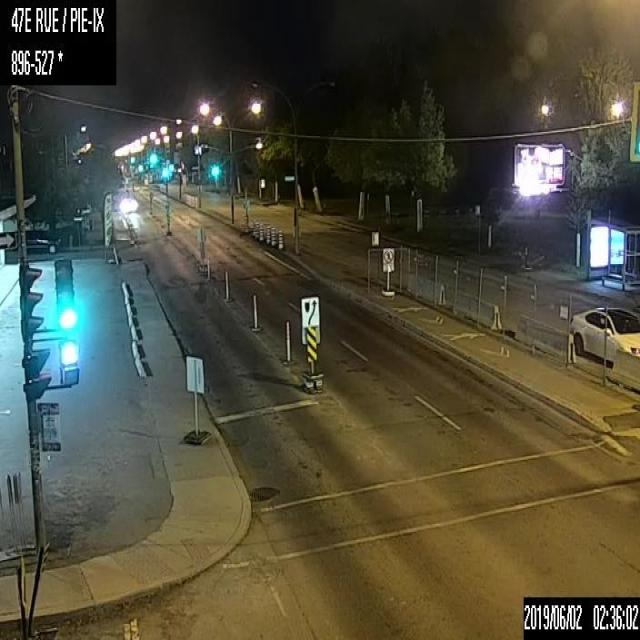construction: (284, 318, 292, 365), (250, 291, 259, 331), (224, 271, 230, 301), (270, 225, 276, 245), (265, 224, 270, 244), (259, 222, 264, 240), (254, 219, 259, 237), (278, 230, 282, 249), (207, 254, 210, 278)
vehicle: (569, 305, 639, 363), (27, 228, 62, 252), (116, 191, 138, 212)
